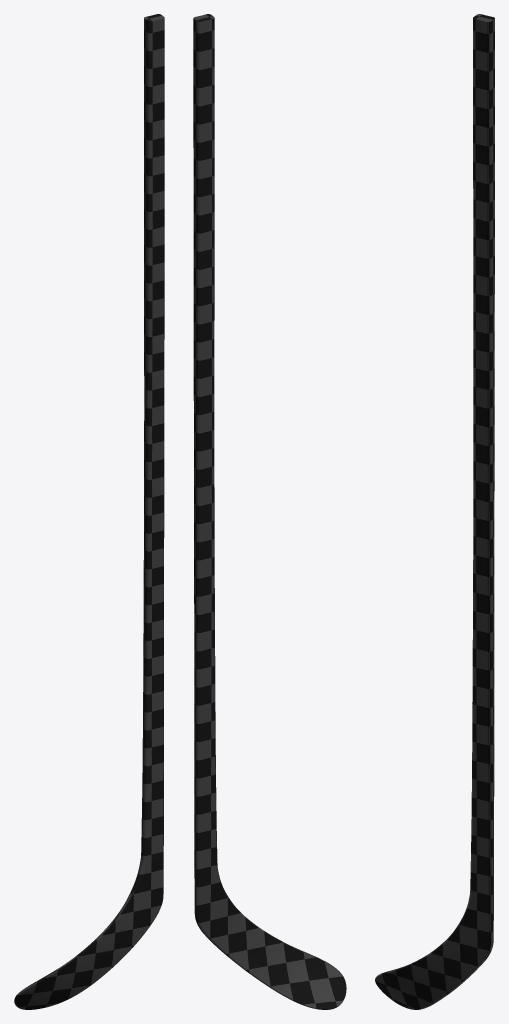
The model's file is P81-SBT.glb.
3 renders of one model, left to right at view 1: azimuth 30°, elevation 25°; view 2: azimuth 210°, elevation 25°; view 3: azimuth 330°, elevation 25°, orthographic. The views are drawn at different scales.
Visible parts, largest first — view 1: geometry_0; view 2: geometry_0; view 3: geometry_0.
Part boxes in pixels (x1=…): geometry_0: x1=14, y1=14, x2=164, y2=1009; geometry_0: x1=193, y1=14, x2=346, y2=1009; geometry_0: x1=375, y1=14, x2=494, y2=1009.
Size of the model in its own units: 227 by 1650 by 81.5.
Materials: 1 (1 with a texture image).
